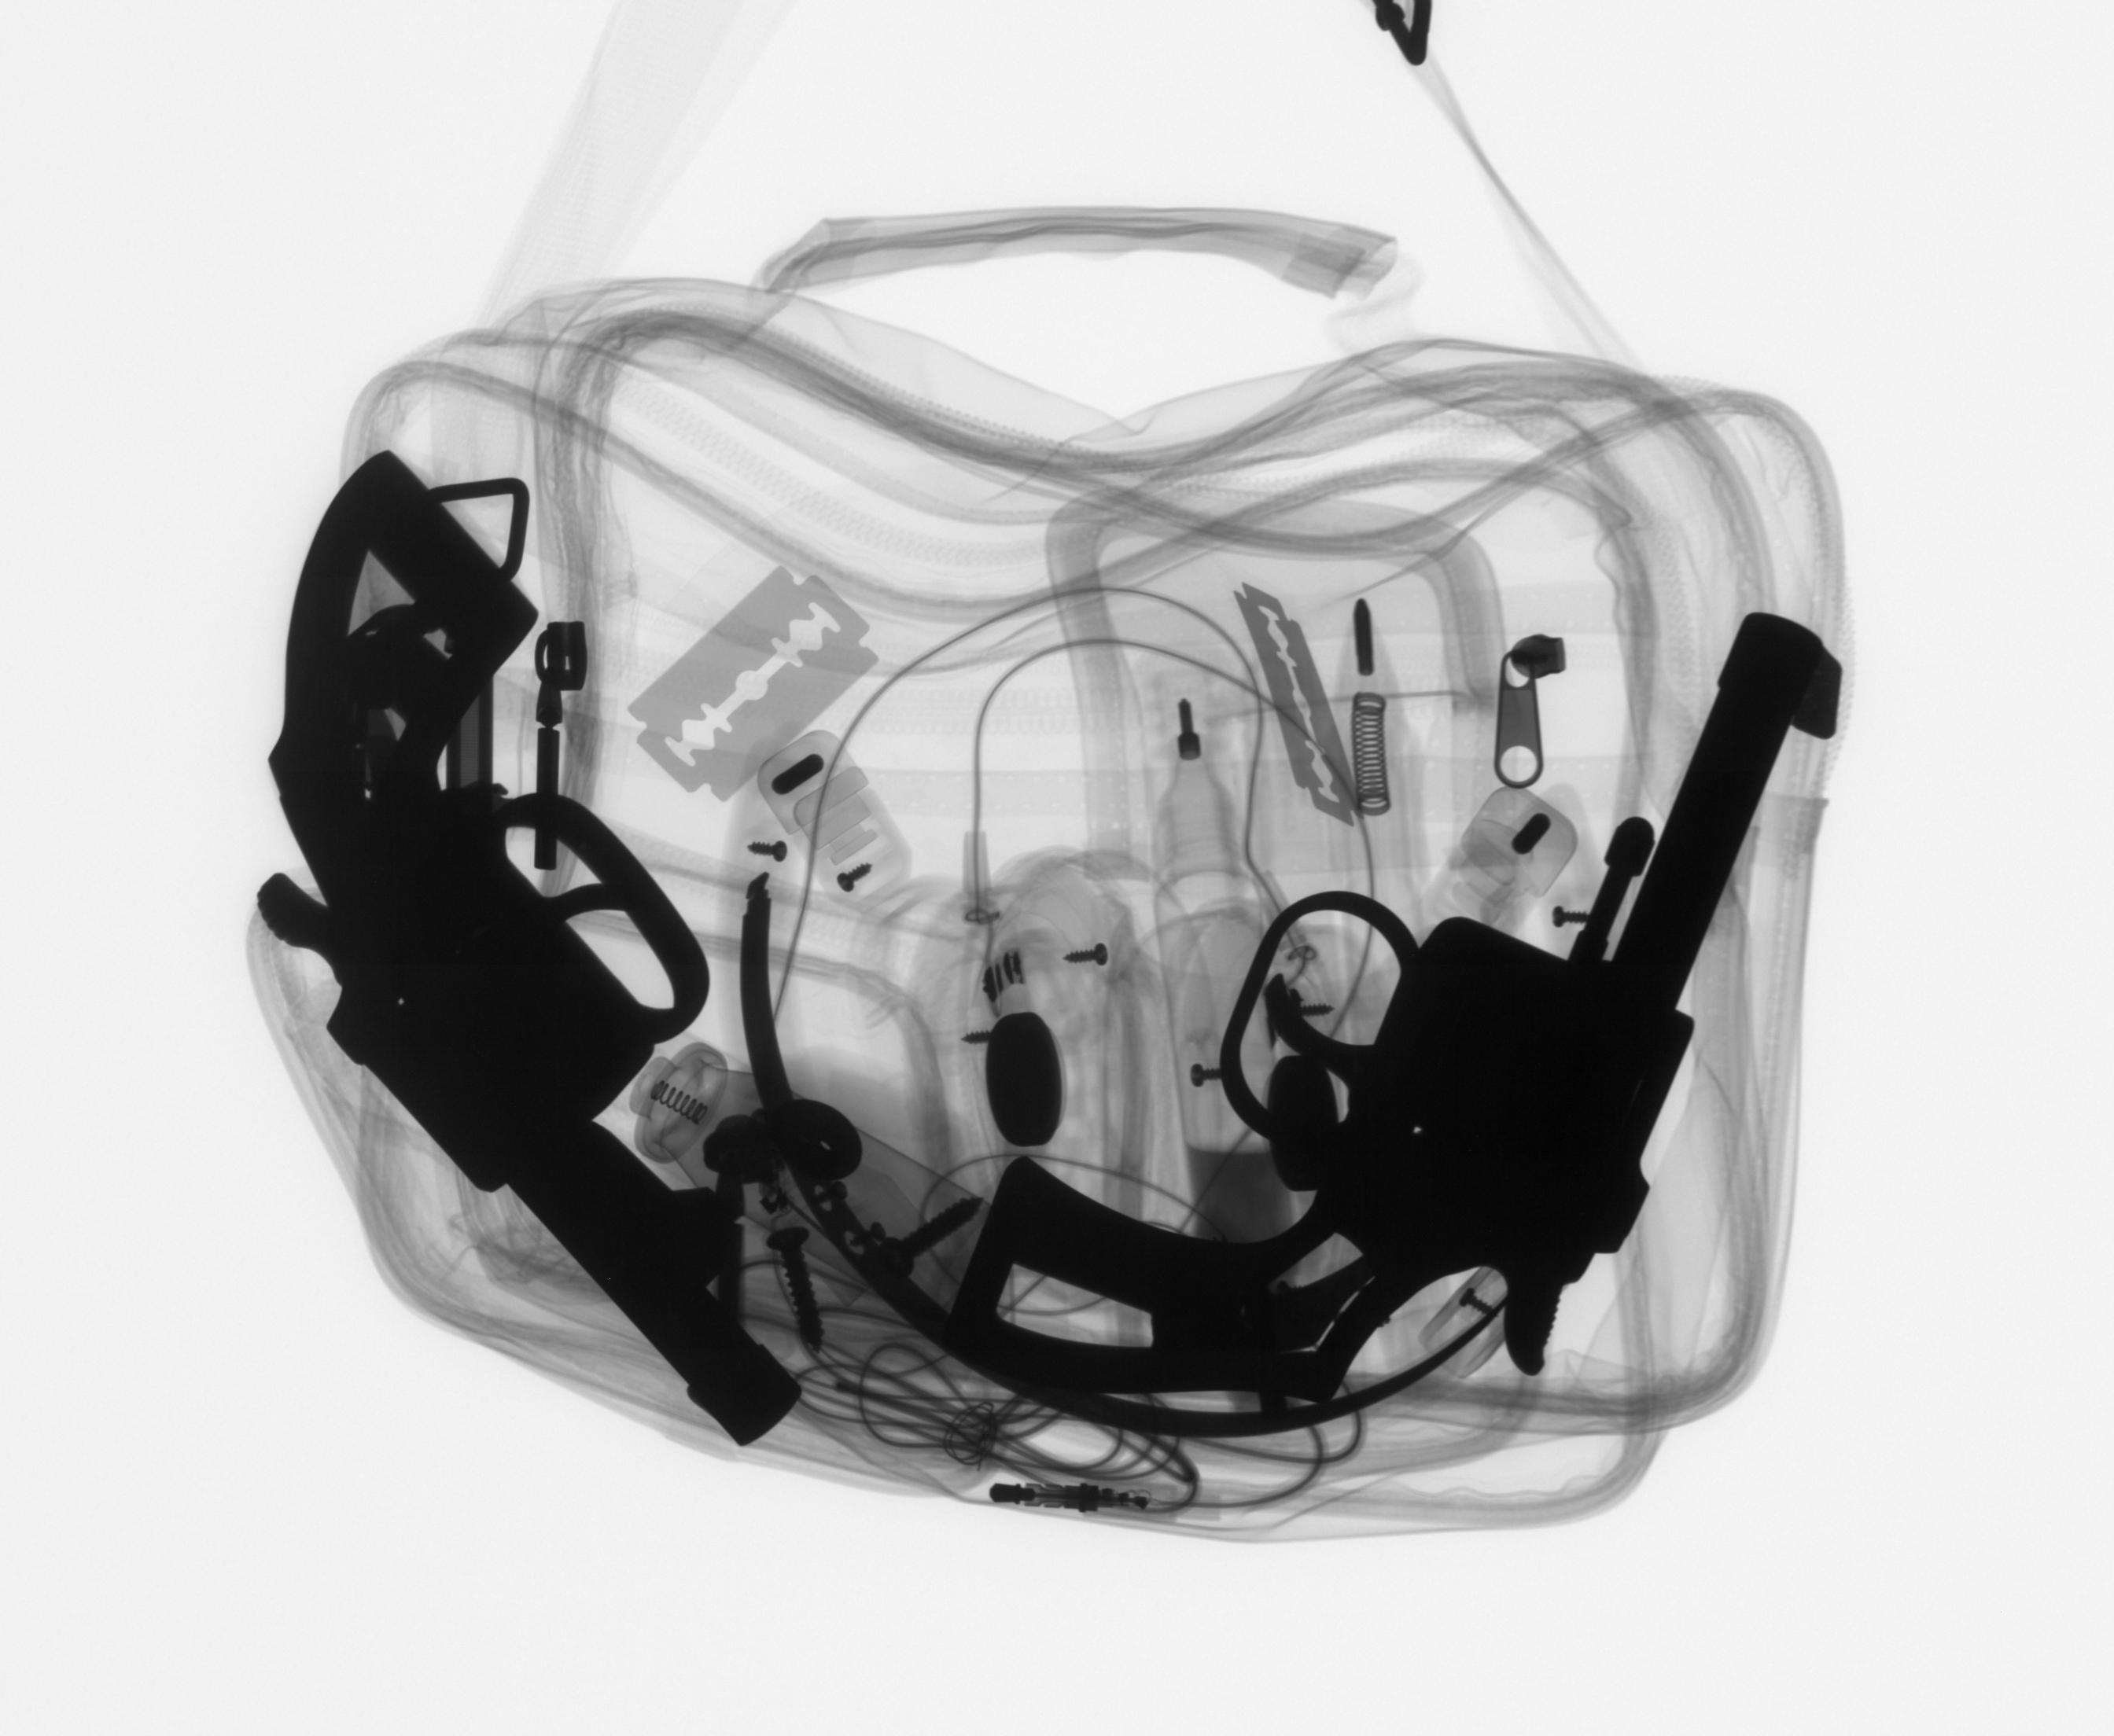Handgun: (940, 603, 1849, 1419), (248, 440, 809, 1458)
RazorBlade: (618, 556, 892, 811), (1223, 573, 1378, 837)
